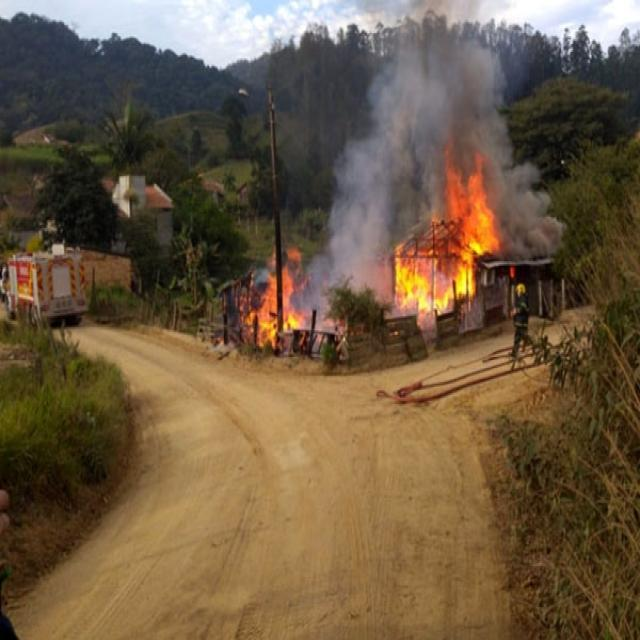Fire: (394, 142, 502, 320), (228, 256, 276, 348), (282, 248, 312, 354)
Smoke: (316, 71, 394, 333), (394, 0, 507, 144), (504, 145, 564, 262)
